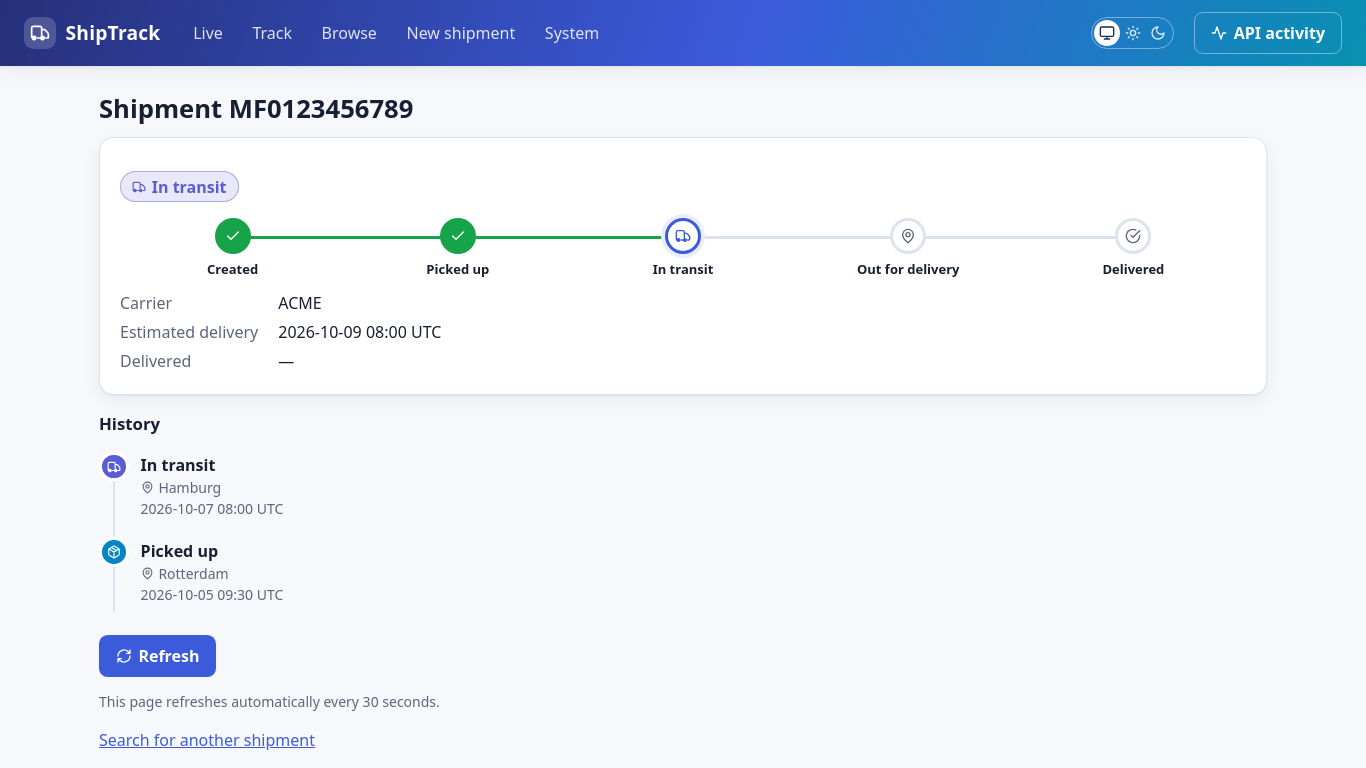
Test: track page: refreshing › keeps the last known status when a refresh fails
This screenshot has width=1366, height=768.
Expected: the text "In transit" is shown, x1=120 y1=171 x2=239 y2=202
Click the button "Refresh". click: point(158, 656)
box: x1=99 y1=635 x2=216 y2=677
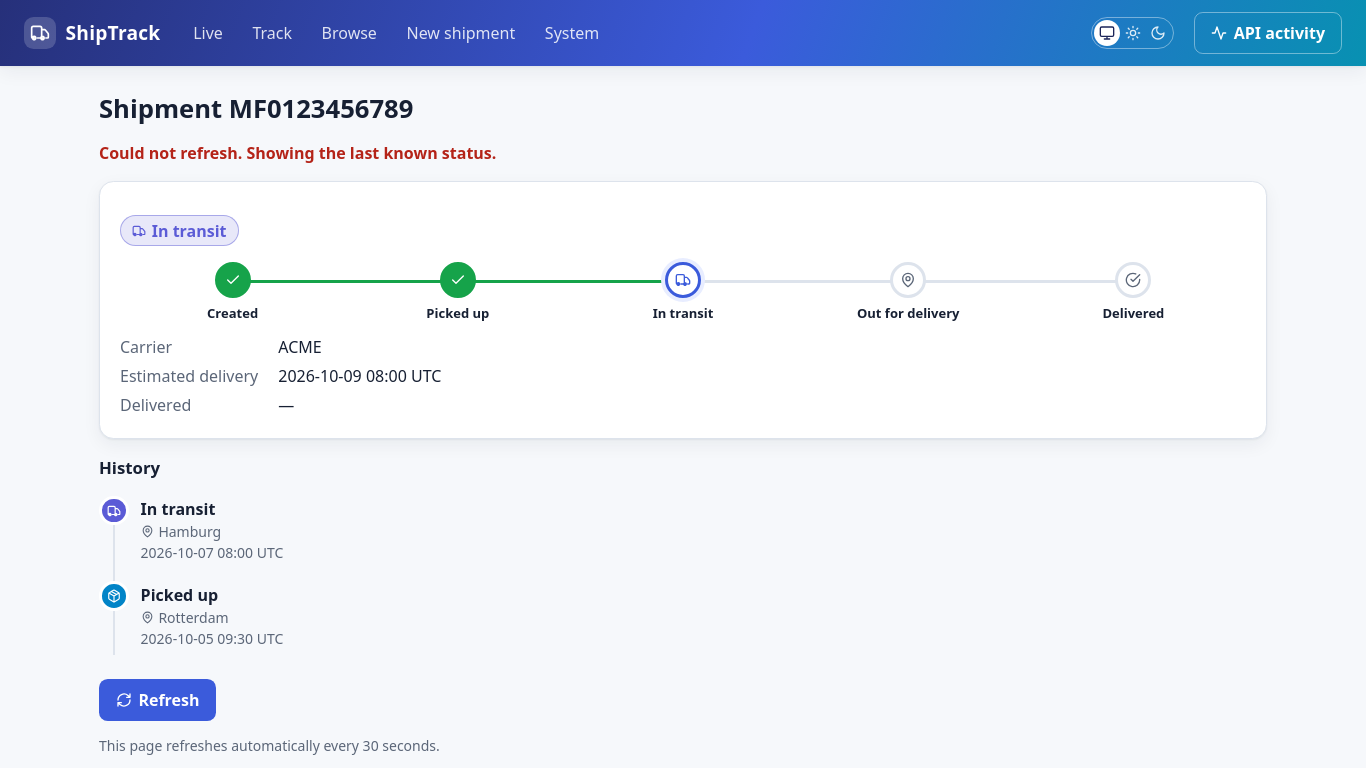
Expected: the text "In transit" is shown, x1=120 y1=215 x2=239 y2=246
Expected: the text "Could not refresh. Showing the last known status." is shown, x1=99 y1=142 x2=496 y2=164
